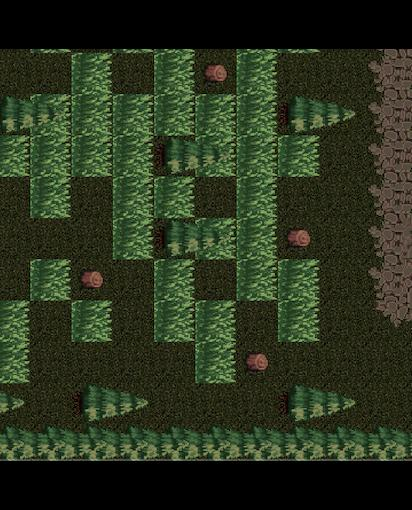Obstacle: (274, 419, 316, 461), (277, 216, 318, 258), (72, 258, 114, 299), (320, 419, 361, 461), (232, 419, 273, 461), (191, 419, 232, 461), (156, 419, 197, 461), (112, 419, 153, 461), (64, 419, 105, 461), (24, 419, 65, 461), (235, 341, 276, 382), (194, 52, 236, 92), (276, 94, 318, 134), (278, 382, 318, 424), (364, 419, 404, 461), (151, 135, 194, 174), (153, 219, 193, 259), (71, 382, 109, 424), (0, 419, 27, 461), (0, 95, 28, 134)
Slow: (276, 134, 318, 177), (151, 176, 193, 219), (70, 134, 112, 177), (235, 52, 277, 94), (236, 93, 278, 135), (235, 135, 277, 177), (193, 94, 235, 136), (152, 94, 194, 136), (111, 94, 153, 136), (111, 134, 153, 176), (112, 176, 154, 218), (195, 218, 237, 260), (235, 177, 277, 219), (236, 218, 278, 260), (278, 300, 320, 342), (194, 299, 236, 341), (194, 340, 236, 382), (152, 299, 194, 341), (153, 259, 195, 301), (70, 53, 112, 95), (70, 94, 112, 136), (30, 96, 72, 138), (27, 136, 69, 178), (28, 177, 70, 219), (72, 300, 114, 342), (195, 136, 236, 178), (152, 52, 193, 94), (111, 218, 152, 260), (234, 259, 276, 300), (276, 259, 318, 300), (29, 259, 71, 300), (0, 135, 30, 177), (0, 299, 30, 341), (0, 341, 28, 383)
